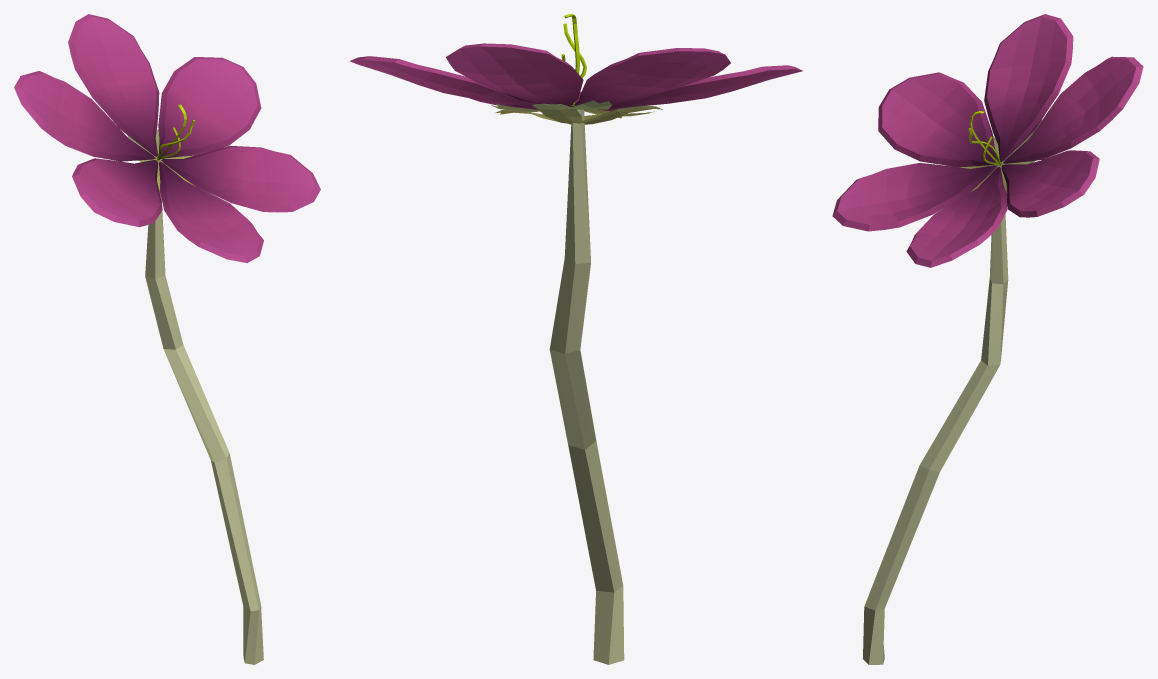
File: SchizostylisCoccinea_DarkPink.fbx
3 views of the same model, side by side, from view 1: azimuth 30°, elevation 25°; view 2: azimuth 150°, elevation 25°; view 3: azimuth 270°, elevation 25° (orthographic). The views are drawn at different scales.
Parts seen in each view (by area): view 1: SchizostylisCoccinea_DarkPink; view 2: SchizostylisCoccinea_DarkPink; view 3: SchizostylisCoccinea_DarkPink.
Part boxes in pixels (x1,y1,x2,y2): SchizostylisCoccinea_DarkPink: (14,14,320,664); SchizostylisCoccinea_DarkPink: (349,14,802,664); SchizostylisCoccinea_DarkPink: (832,14,1143,664).
Bounding box in the file's own units: 20.78 × 43.24 × 21.12.
